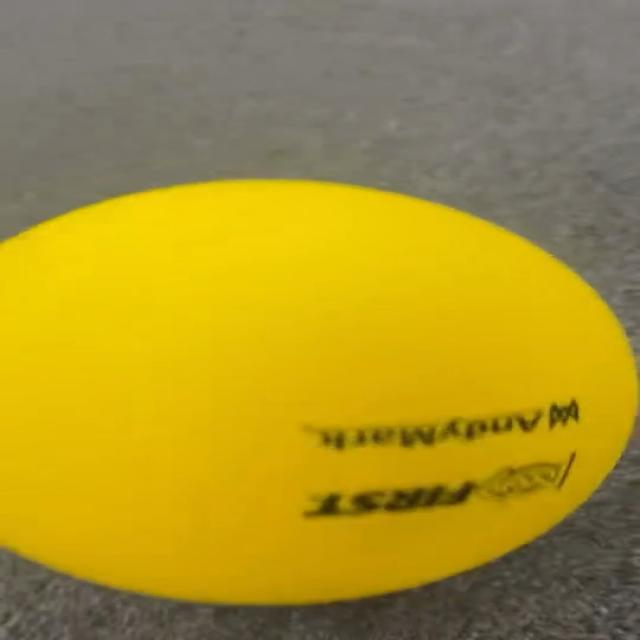Fuels: (3, 181, 634, 601)
